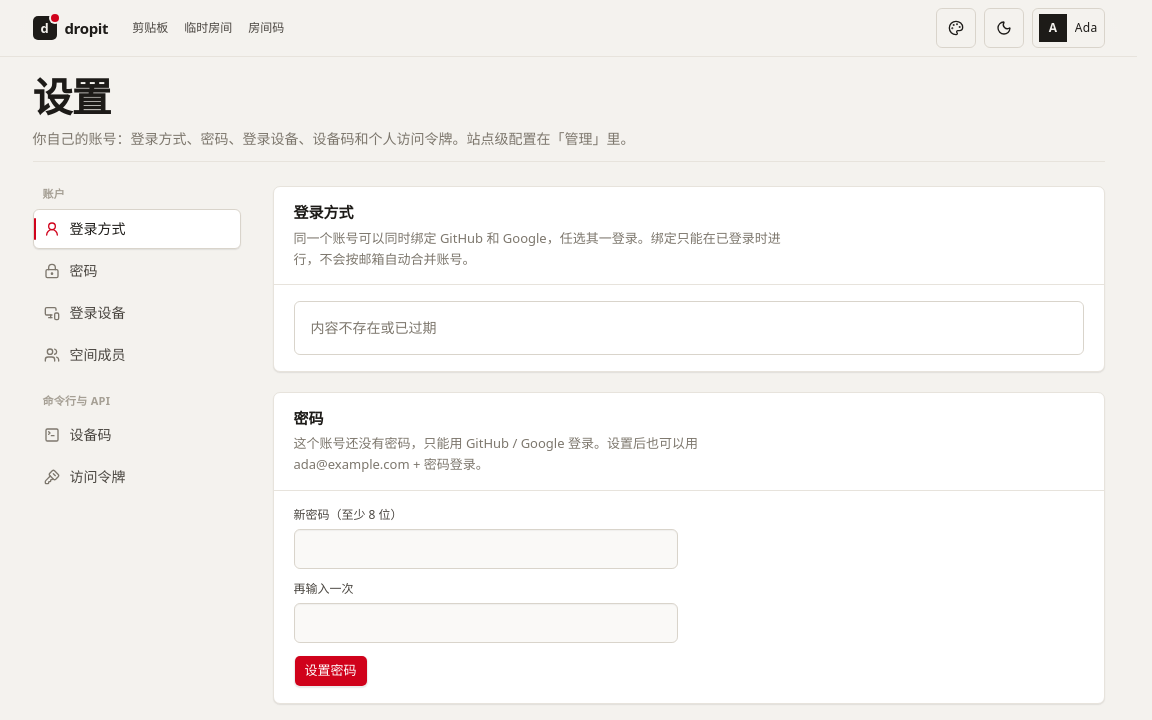
Test: 房间码 popup › the top bar opens a popup to enter a room code; /join still works
Click the button "房间码" at point(268, 28), box [248,8,288,48]
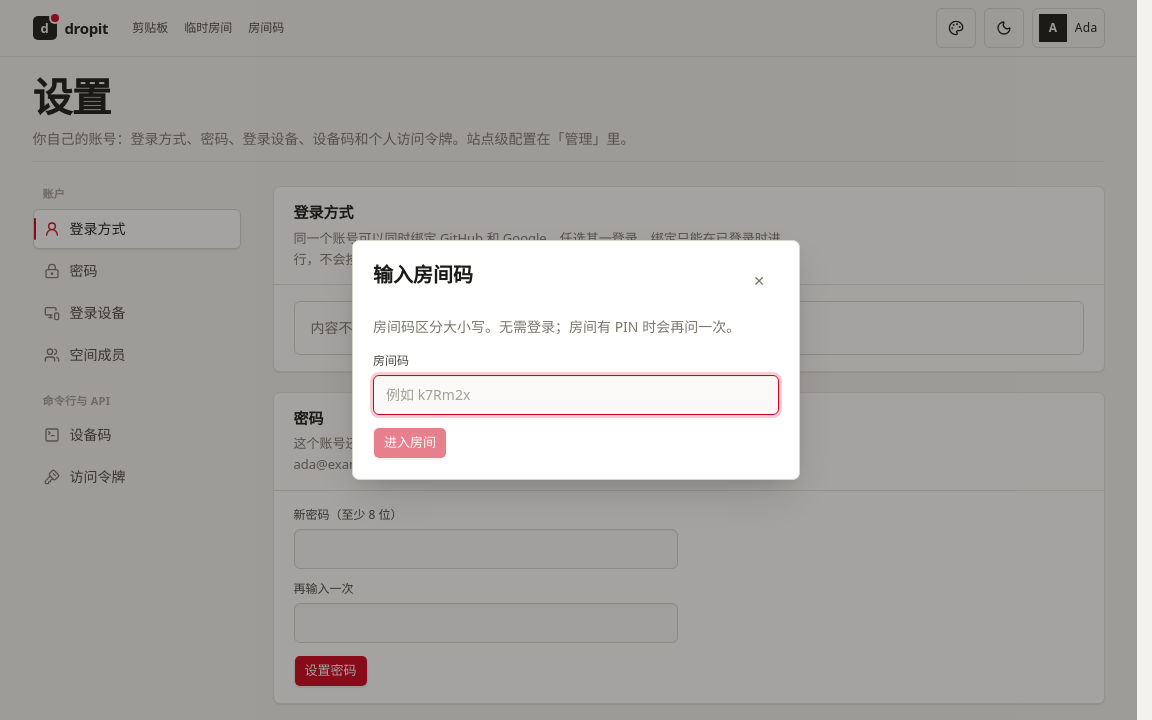
Now the field is shown, box [373,375,779,415]
Press Escape
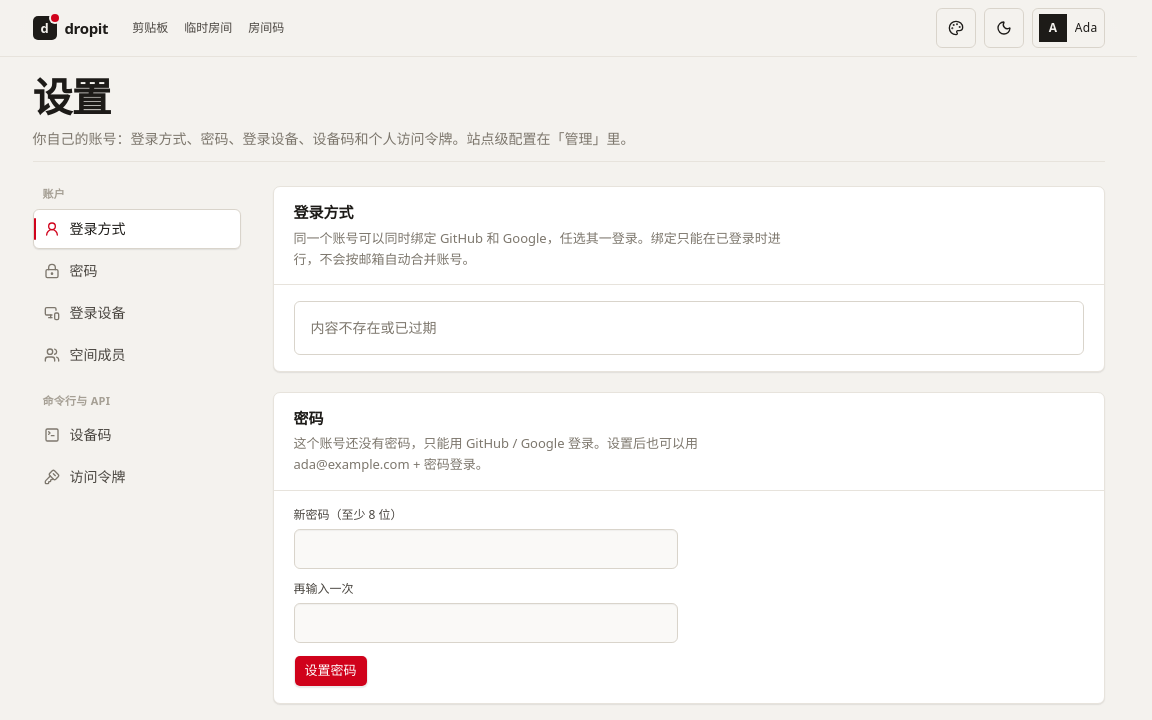
Now the heading "输入房间码" is gone
